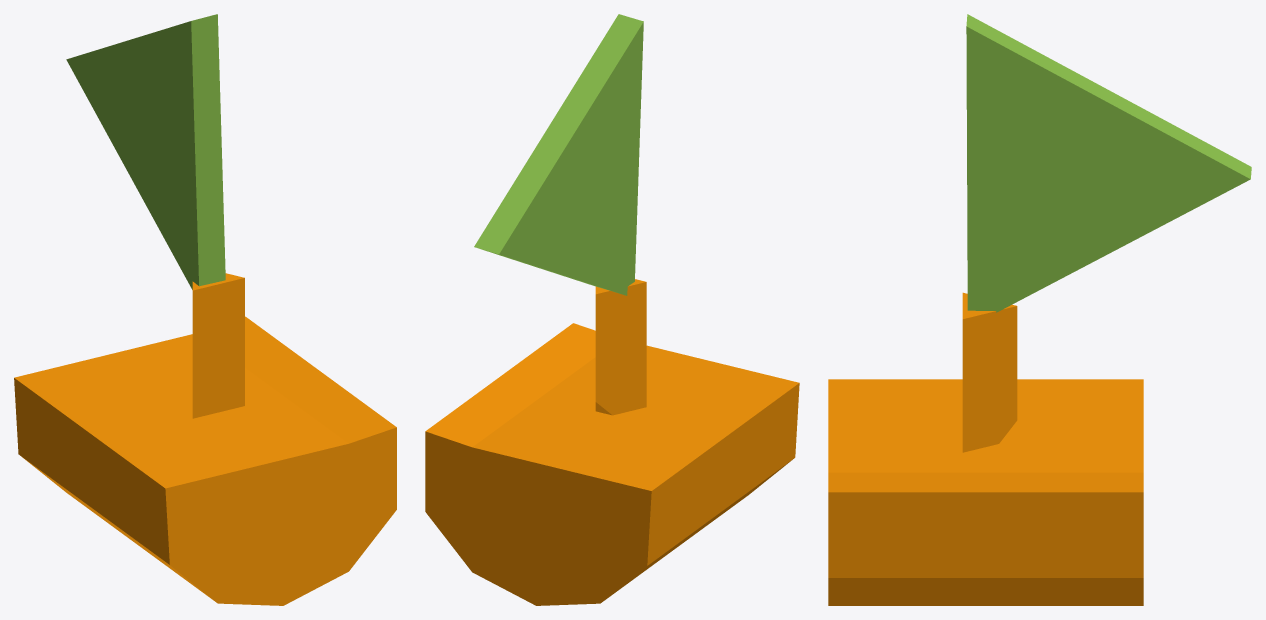
File: boat0.fbx
3 renders of one model, left to right at view 1: azimuth 30°, elevation 25°; view 2: azimuth 150°, elevation 25°; view 3: azimuth 270°, elevation 25°, orthographic. The views are drawn at different scales.
Parts seen in each view (by area): view 1: mesh_1812785844, group_410817031, mesh_419589608; view 2: mesh_1812785844, group_410817031, mesh_419589608; view 3: mesh_1812785844, group_410817031, mesh_419589608.
Part boxes in pixels (left/top/right/bottom): mesh_1812785844: left=14, top=316, right=396, bottom=605; group_410817031: left=66, top=14, right=225, bottom=289; mesh_419589608: left=192, top=273, right=244, bottom=418; mesh_1812785844: left=425, top=323, right=799, bottom=605; group_410817031: left=474, top=14, right=643, bottom=295; mesh_419589608: left=595, top=279, right=646, bottom=415; mesh_1812785844: left=828, top=379, right=1143, bottom=605; group_410817031: left=966, top=14, right=1251, bottom=312; mesh_419589608: left=962, top=292, right=1017, bottom=452.
Size of the model in its own units: 4.42 by 9.9 by 6.72.
